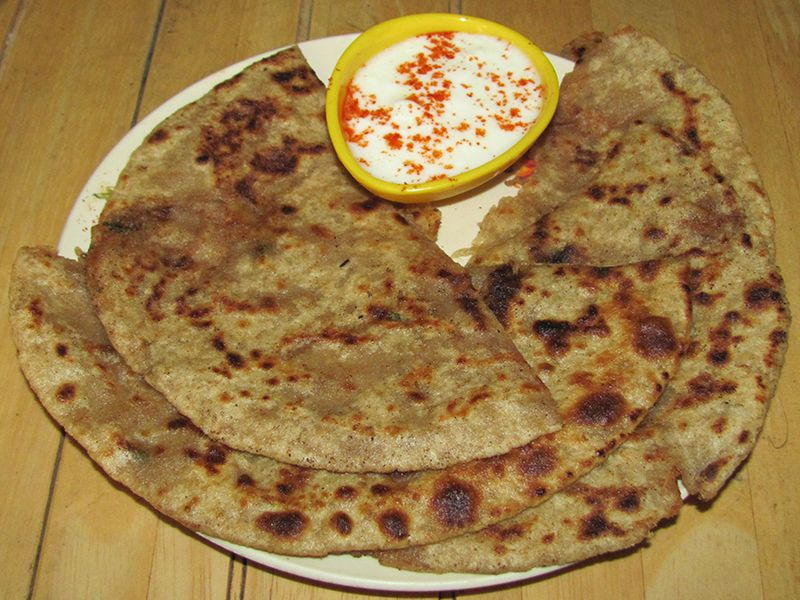aloo_paratha: (1, 32, 790, 576)
